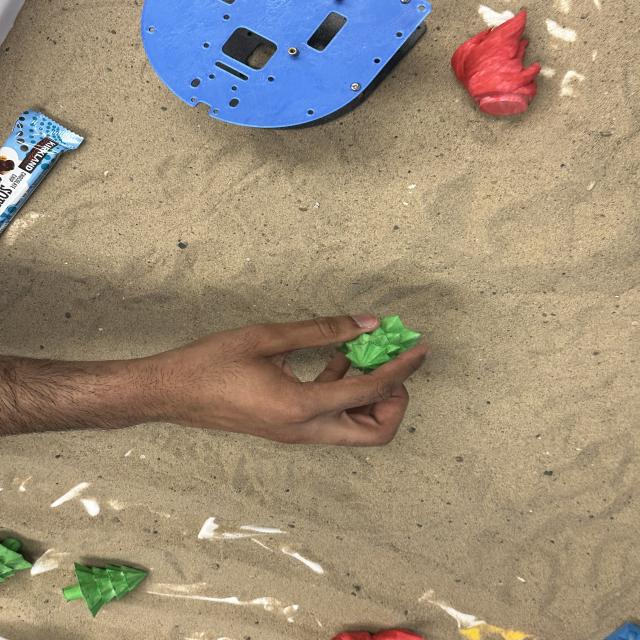fire: (451, 11, 545, 116)
tree: (336, 314, 422, 374), (60, 564, 148, 614), (0, 535, 34, 583)
